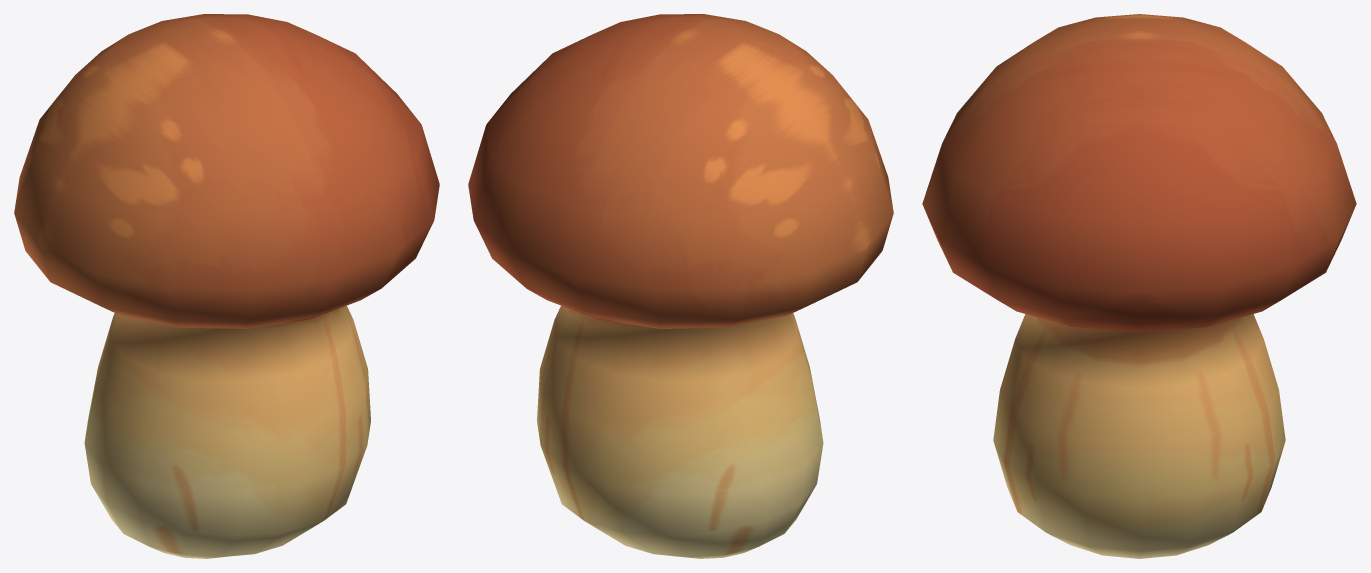
Rendered from Jamur_Full.fbx.
3 renders of one model, left to right at view 1: azimuth 30°, elevation 25°; view 2: azimuth 150°, elevation 25°; view 3: azimuth 270°, elevation 25°, orthographic.
Parts seen in each view (by area): view 1: Plane.021; view 2: Plane.021; view 3: Plane.021.
Part boxes in pixels (bbox=[...]): Plane.021: bbox=[14, 14, 439, 558]; Plane.021: bbox=[468, 14, 893, 558]; Plane.021: bbox=[922, 14, 1356, 558].
Size of the model in its own units: 16.47 by 16.47 by 21.16.
Materials: 1 (1 with a texture image).
